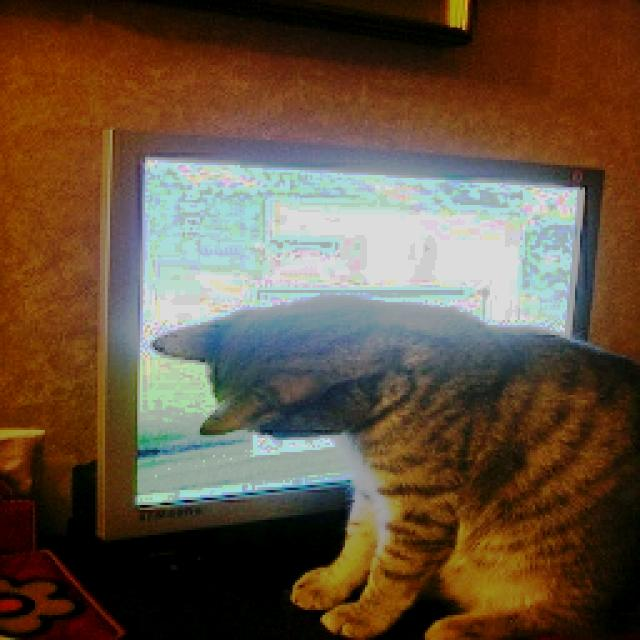cat: (143, 275, 640, 640)
